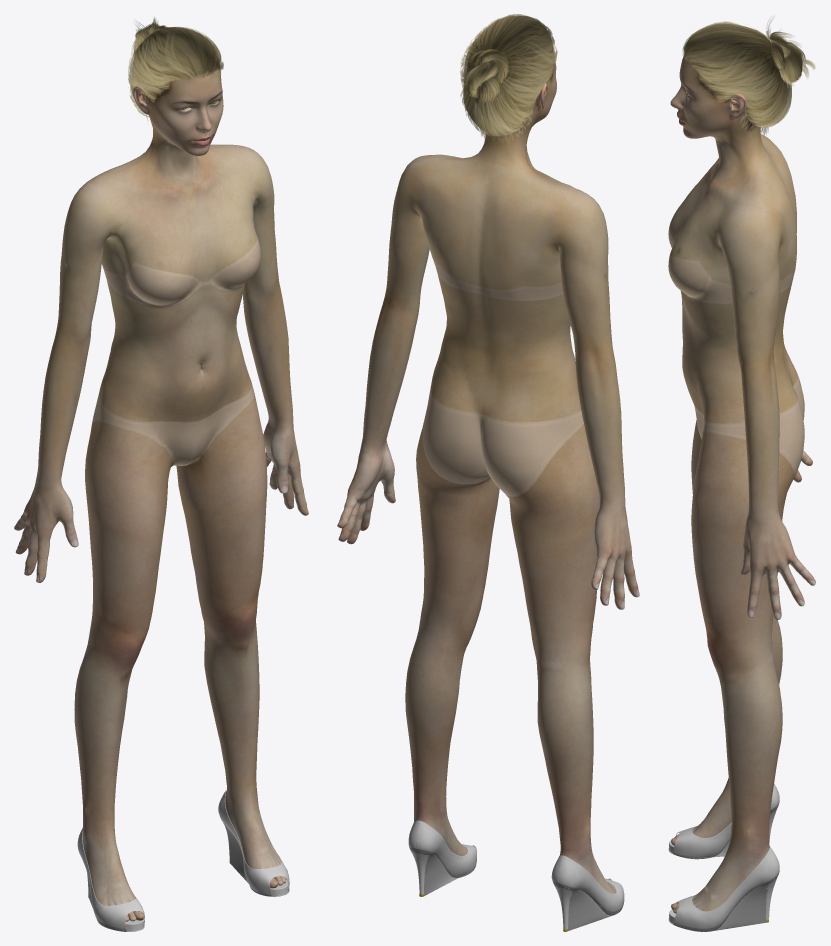
File: female.gltf
3 views of the same model, side by side, from view 1: azimuth 30°, elevation 25°; view 2: azimuth 150°, elevation 25°; view 3: azimuth 270°, elevation 25° (orthographic). The views are drawn at different scales.
Parts seen in each view (by area): view 1: female:Mesh; view 2: female:Mesh; view 3: female:Mesh.
Part boxes in pixels (left/top/right/bottom): female:Mesh: left=14, top=16, right=308, bottom=931; female:Mesh: left=337, top=14, right=639, bottom=931; female:Mesh: left=668, top=18, right=815, bottom=931.
Size of the model in its own units: 0.2399 by 0.7243 by 0.1127.
